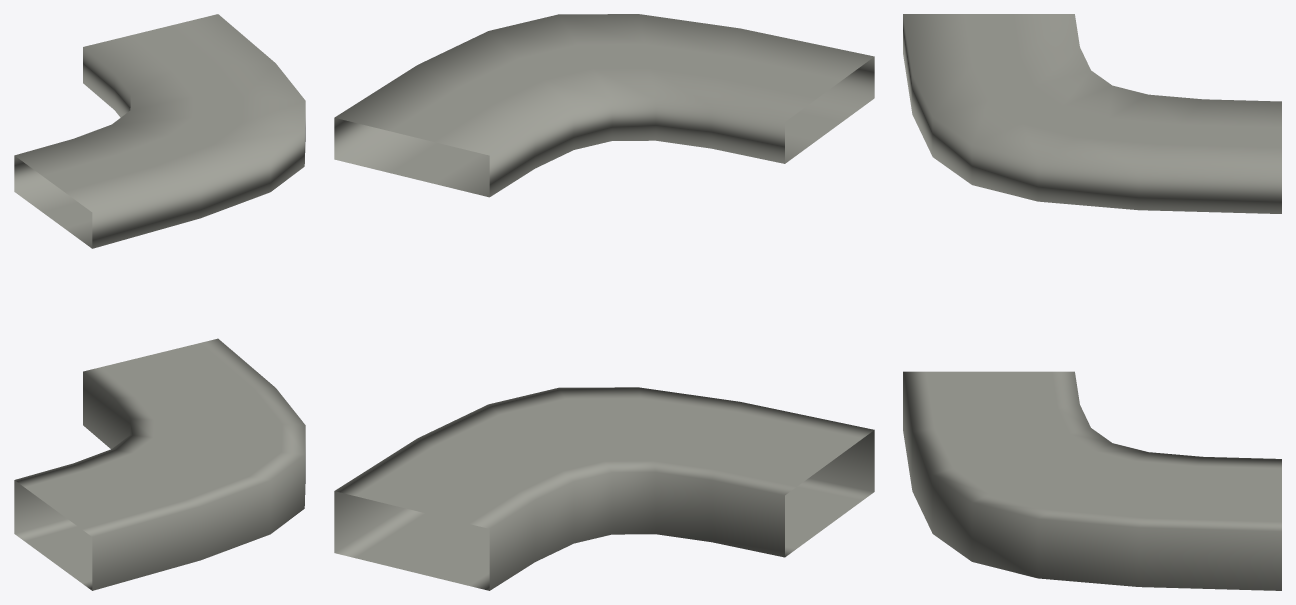
Rendered from kose.fbx.
3 renders of one model, left to right at view 1: azimuth 30°, elevation 25°; view 2: azimuth 150°, elevation 25°; view 3: azimuth 270°, elevation 25°, orthographic. The views are drawn at different scales.
Visible parts, largest first — view 1: Cube.002; view 2: Cube.002; view 3: Cube.002.
Boxes of the visible parts, x1,y1,x2,y2 form: Cube.002: [14, 14, 305, 590]; Cube.002: [334, 14, 874, 590]; Cube.002: [903, 14, 1281, 590].
Bounding box in the file's own units: 1.65 × 2 × 1.65.
